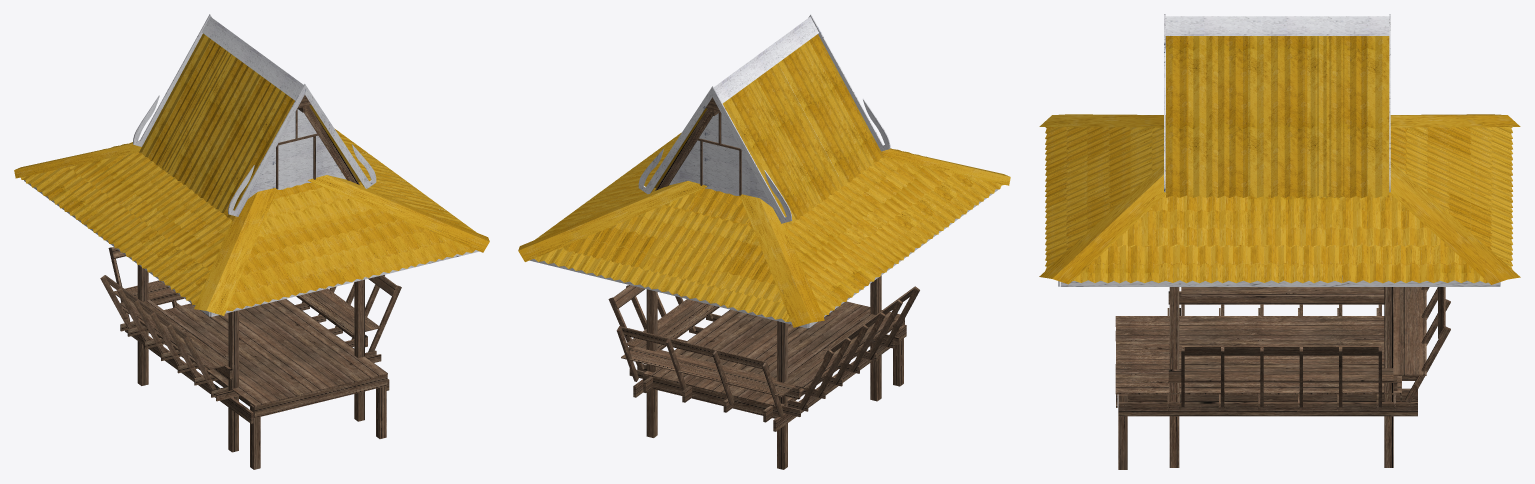
The model's file is mdl_namo_pavilion.glb.
The picture shows the model from 3 angles, left to right: view 1: azimuth 30°, elevation 25°; view 2: azimuth 150°, elevation 25°; view 3: azimuth 270°, elevation 25°; orthographic projection. The views are drawn at different scales.
Parts seen in each view (by area): view 1: object 119, object 118, object 114, object 17, Line024, object 18, Line029, object 74, object 16, object 46, object 200, object 216 (+58 smaller); view 2: object 119, object 114, object 118, object 16, Line024, object 15, Line029, object 17, object 166, object 150, object 152, object 158 (+56 smaller); view 3: object 116, object 115, object 117, Line029, object 67, object 15, object 18, object 229, Box046, object 68, object 66, object 85 (+70 smaller).
Part boxes in pixels (x1,y1,x2,y2): object 119: [194, 74, 294, 220]; object 118: [156, 47, 258, 192]; object 114: [139, 33, 241, 180]; object 17: [194, 188, 277, 315]; Line024: [248, 109, 346, 198]; object 18: [308, 175, 489, 252]; Line029: [202, 16, 303, 100]; object 74: [254, 374, 387, 417]; object 16: [14, 143, 141, 178]; object 46: [228, 310, 238, 452]; object 200: [285, 230, 367, 262]; object 216: [275, 216, 357, 248]; object 119: [778, 34, 883, 185]; object 114: [723, 76, 825, 228]; object 118: [741, 63, 843, 215]; object 16: [739, 194, 824, 327]; Line024: [669, 77, 838, 207]; object 15: [518, 181, 707, 261]; Line029: [713, 16, 818, 103]; object 17: [881, 149, 1010, 185]; object 166: [666, 208, 750, 242]; object 150: [646, 238, 730, 272]; object 152: [657, 223, 741, 257]; object 158: [576, 255, 660, 289]; object 116: [1166, 36, 1256, 197]; object 115: [1298, 36, 1389, 198]; object 117: [1257, 36, 1348, 198]; Line029: [1165, 16, 1389, 35]; object 67: [1118, 402, 1417, 416]; object 15: [1389, 160, 1520, 284]; object 18: [1039, 161, 1166, 284]; object 229: [1060, 277, 1499, 286]; Box046: [1181, 345, 1381, 355]; object 68: [1127, 388, 1417, 401]; object 66: [1115, 388, 1401, 394]; object 85: [1168, 291, 1384, 304].
Bounding box in the file's own units: 3.42 × 3.93 × 4.08.
Materials: 4 (4 with a texture image).
